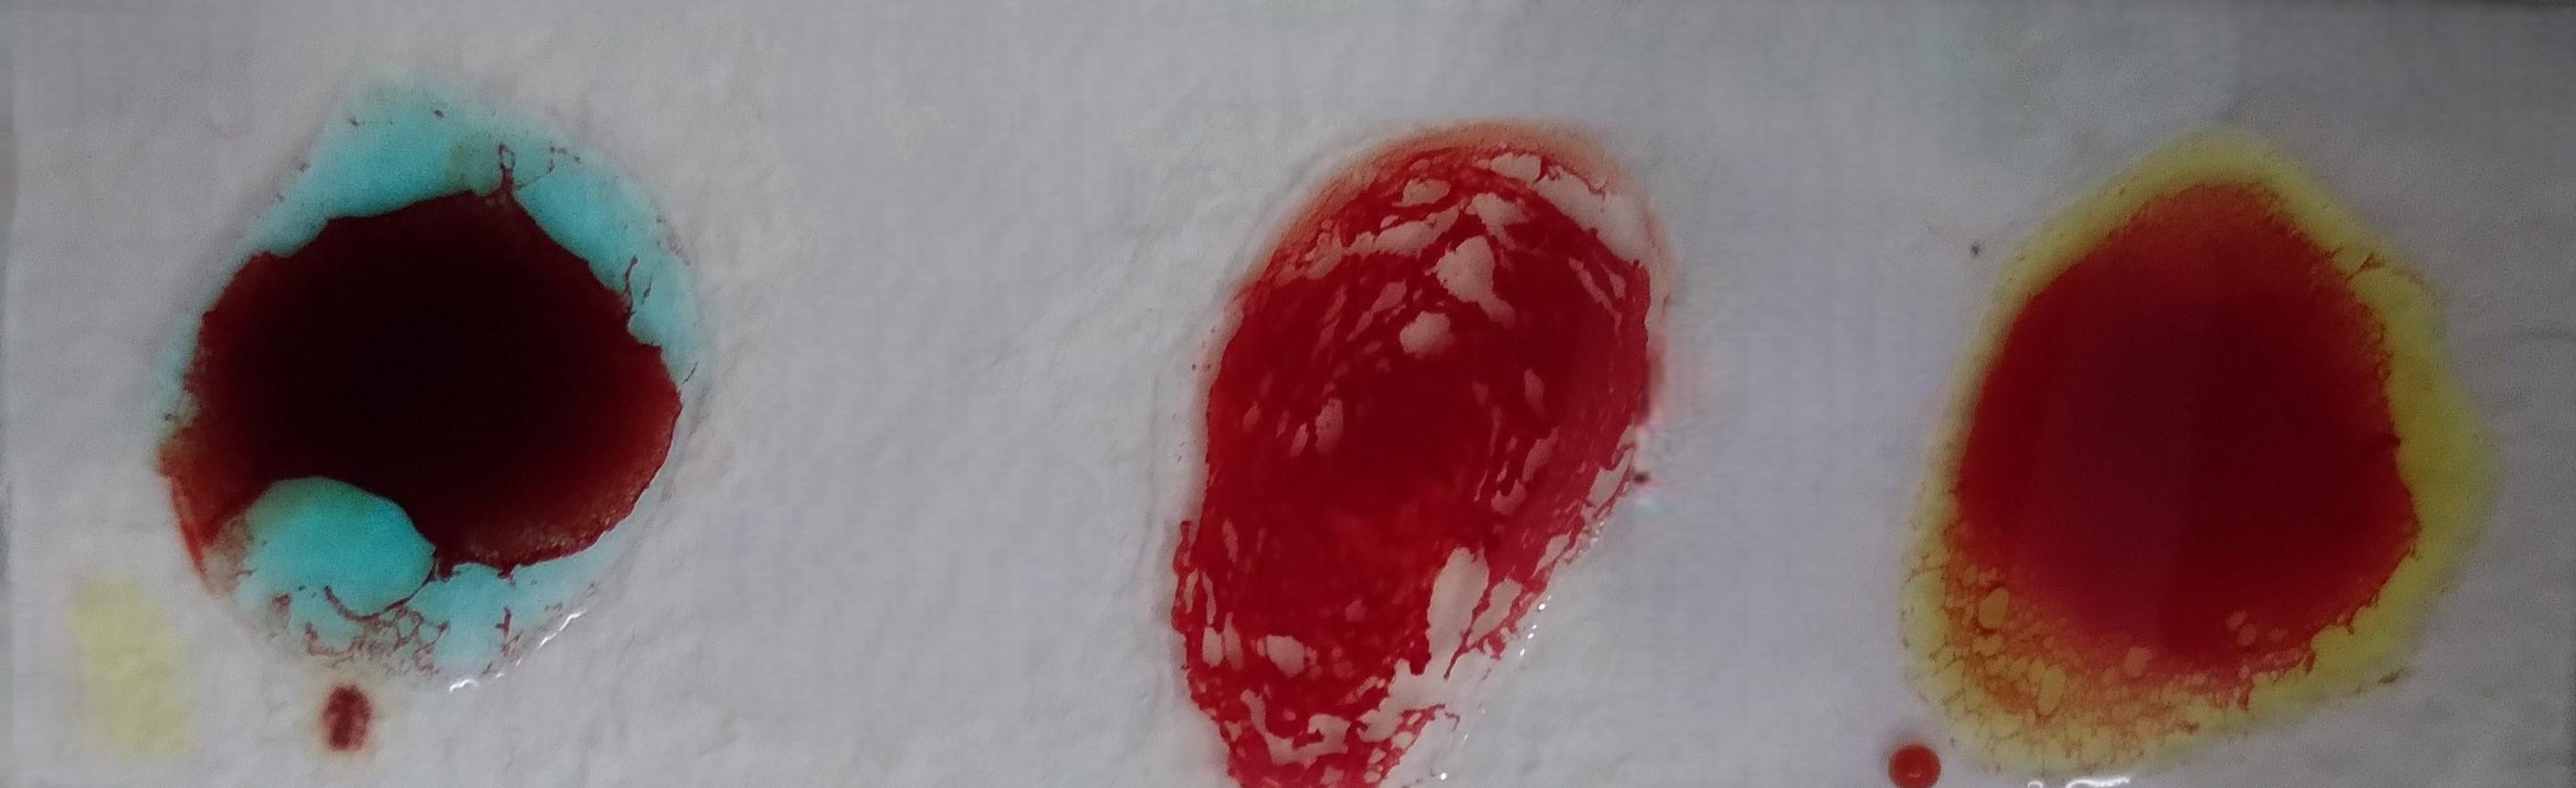A: (161, 100, 693, 686)
B: (1943, 164, 2473, 768)
D: (1193, 123, 1618, 788)
